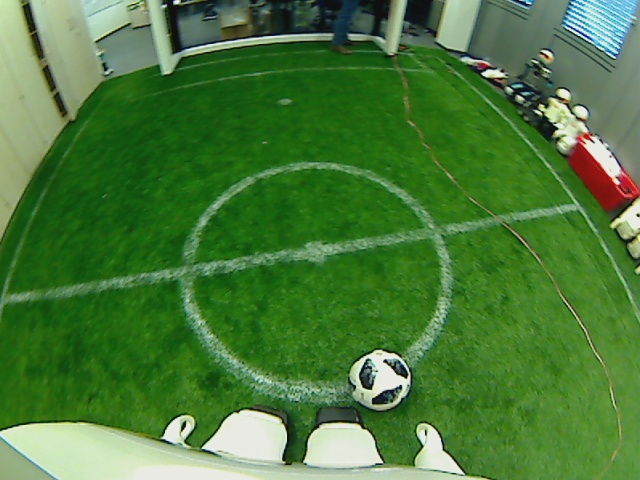ball: (347, 346, 411, 411)
